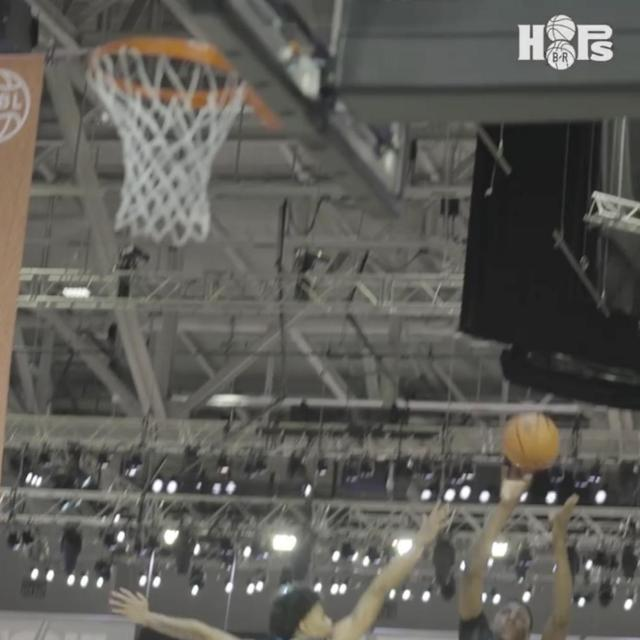Basketball: (502, 412, 560, 470)
hoop: (86, 35, 253, 248)
